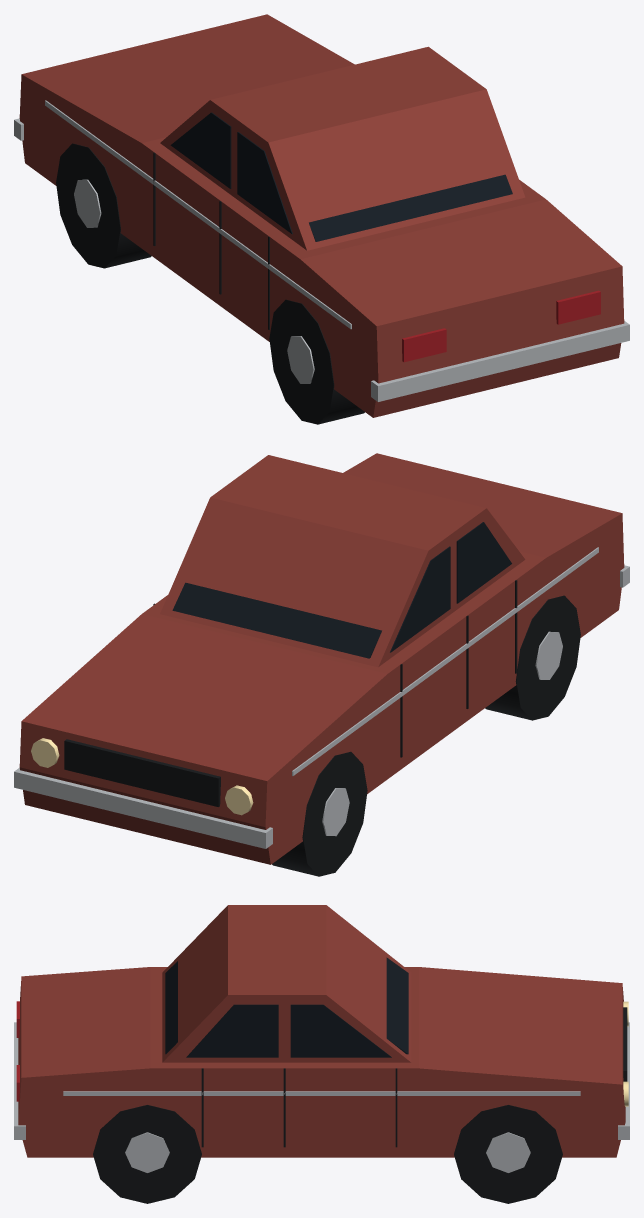
Rendered from car-car.glb.
The picture shows the model from 3 angles, top to bottom: view 1: azimuth 30°, elevation 25°; view 2: azimuth 150°, elevation 25°; view 3: azimuth 270°, elevation 25°; orthographic projection. The views are drawn at different scales.
Visible parts, largest first — view 1: 01_paint0, 00_#1e2022_noshadow_r320, 02_#1a2026_noshadow_r320, 03_#b8bcc0_noshadow_r110, 05_#a3262c_noshadow_r110; view 2: 01_paint0, 00_#1e2022_noshadow_r320, 02_#1a2026_noshadow_r320, 03_#b8bcc0_noshadow_r110, 04_#ffe9b0_noshadow; view 3: 01_paint0, 00_#1e2022_noshadow_r320, 02_#1a2026_noshadow_r320, 03_#b8bcc0_noshadow_r110.
Boxes of the visible parts, left/top/right/bottom form: 01_paint0: left=19, top=14, right=624, bottom=417; 00_#1e2022_noshadow_r320: left=56, top=143, right=364, bottom=424; 02_#1a2026_noshadow_r320: left=170, top=112, right=512, bottom=241; 03_#b8bcc0_noshadow_r110: left=14, top=100, right=629, bottom=401; 05_#a3262c_noshadow_r110: left=402, top=290, right=600, bottom=362; 01_paint0: left=19, top=453, right=624, bottom=864; 00_#1e2022_noshadow_r320: left=64, top=580, right=580, bottom=876; 02_#1a2026_noshadow_r320: left=172, top=522, right=511, bottom=658; 03_#b8bcc0_noshadow_r110: left=14, top=547, right=629, bottom=848; 04_#ffe9b0_noshadow: left=31, top=738, right=253, bottom=815; 01_paint0: left=18, top=905, right=625, bottom=1157; 00_#1e2022_noshadow_r320: left=93, top=1007, right=627, bottom=1203; 02_#1a2026_noshadow_r320: left=165, top=957, right=408, bottom=1057; 03_#b8bcc0_noshadow_r110: left=14, top=1022, right=629, bottom=1172.
Size of the model in its own units: 1.65 by 1.5 by 4.13.
